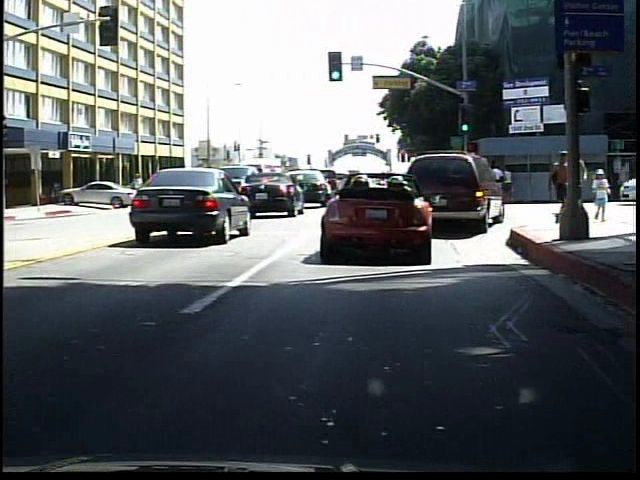person: (545, 147, 569, 223), (584, 168, 611, 222), (127, 172, 146, 205)
